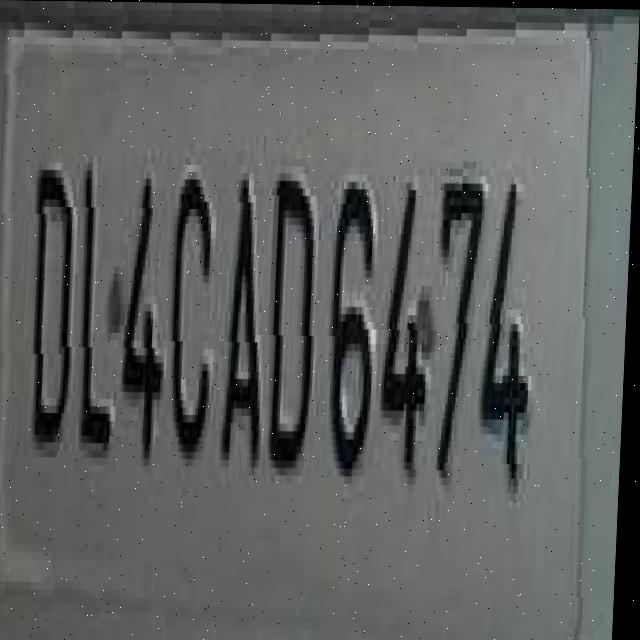plate: (0, 22, 606, 640)
